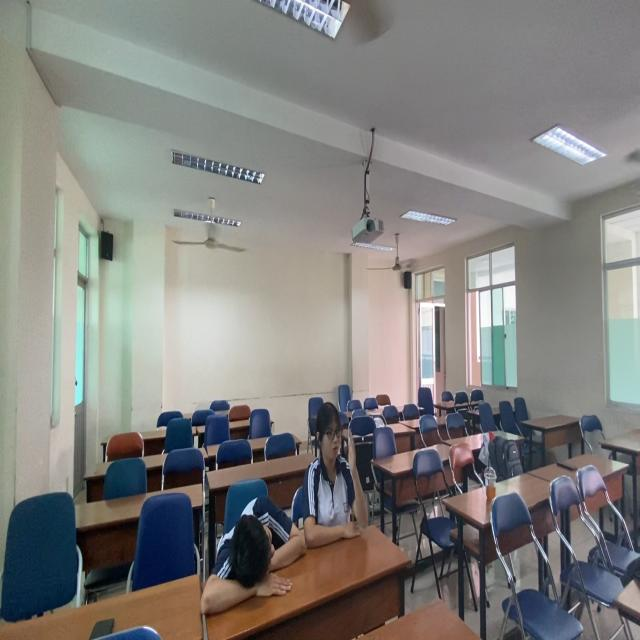raise_hand: (306, 401, 371, 548)
sleep: (199, 496, 310, 620)
